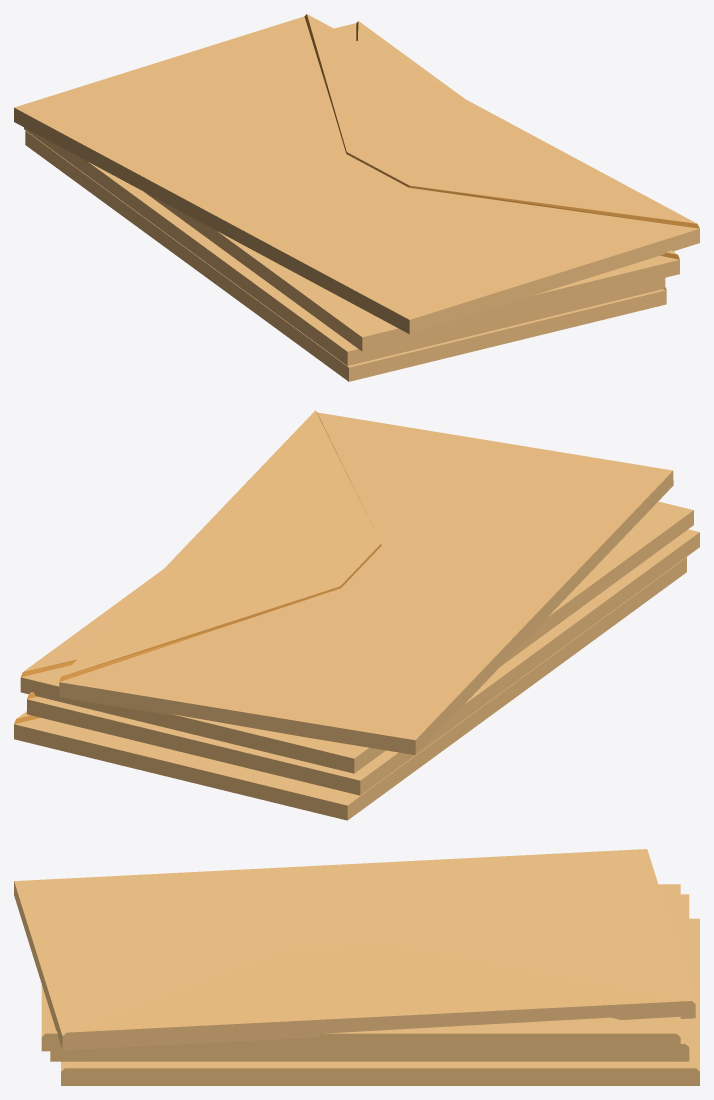
File: letter.glb
3 views of the same model, one above another, from view 1: azimuth 30°, elevation 25°; view 2: azimuth 150°, elevation 25°; view 3: azimuth 270°, elevation 25° (orthographic). The views are drawn at different scales.
Visible parts, largest first — view 1: Node; view 2: Node; view 3: Node.
Part boxes in pixels (left/top/right/bottom): Node: left=14, top=14, right=699, bottom=381; Node: left=14, top=410, right=699, bottom=820; Node: left=14, top=849, right=699, bottom=1085.
Size of the model in its own units: 1.14 by 0.1968 by 1.76.
